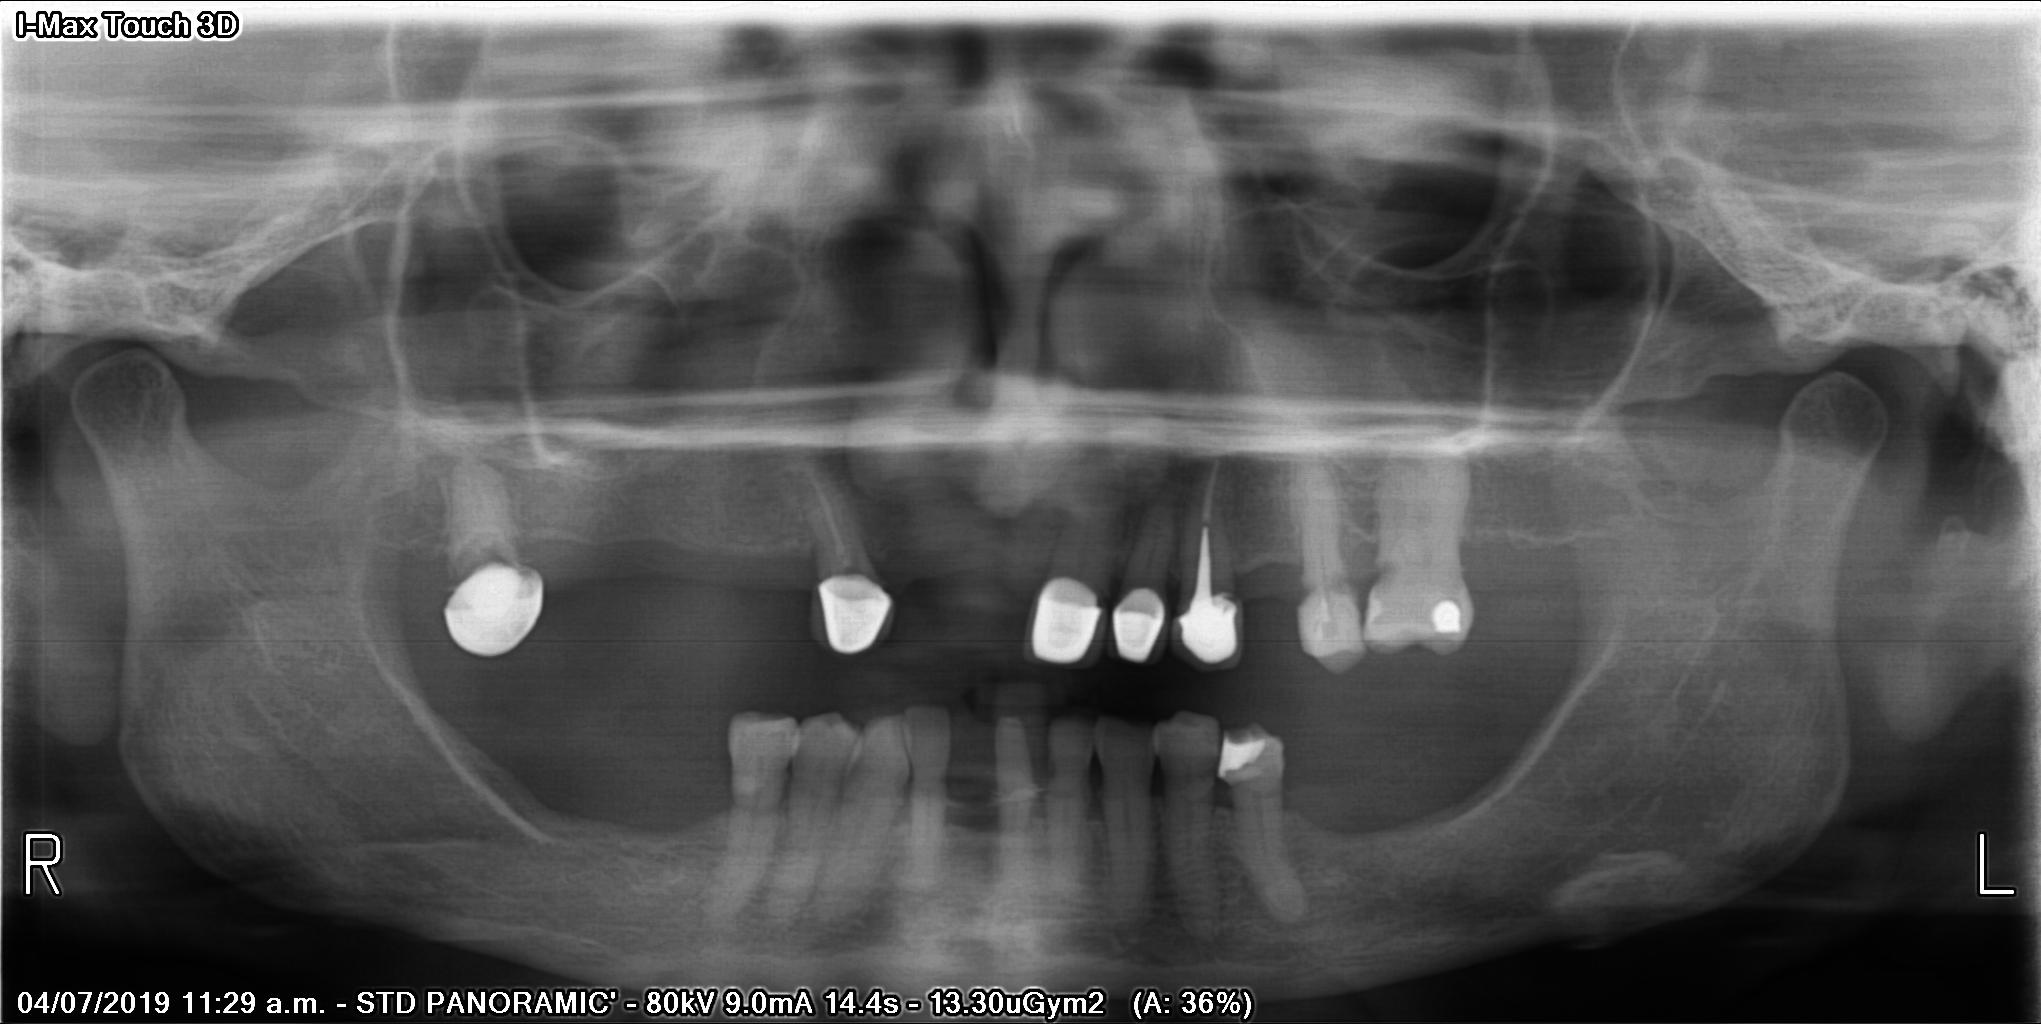Çürük: (436, 565, 556, 660), (810, 574, 897, 654), (1035, 572, 1102, 664), (1105, 589, 1172, 666), (1177, 586, 1238, 666), (1214, 730, 1272, 785), (1426, 598, 1466, 640)
Çürük Bölgesi: (1363, 550, 1400, 598), (1338, 565, 1366, 615), (1294, 573, 1318, 612)
